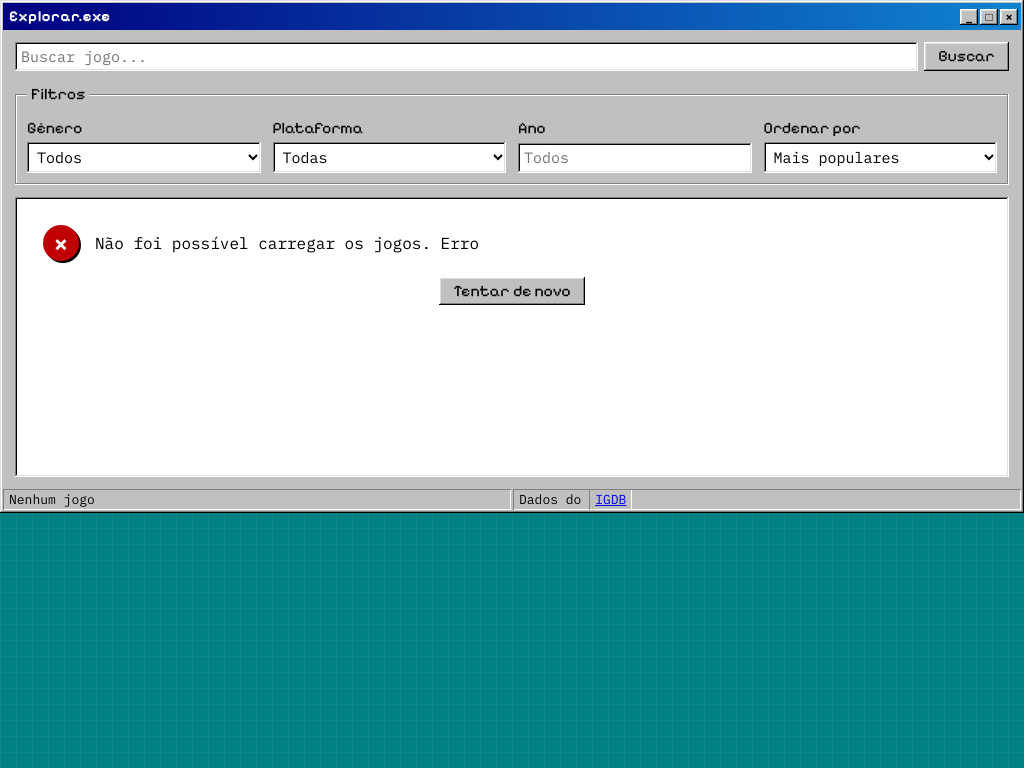
Test case: ExploreView › mostra o erro e tenta de novo
Expected: the message "× Não foi possível carregar os jogos. Erro Tentar de novo" is shown, [43, 225, 585, 305]
Click the button "Tentar de novo" at coordinates (512, 291), box [439, 277, 585, 305]
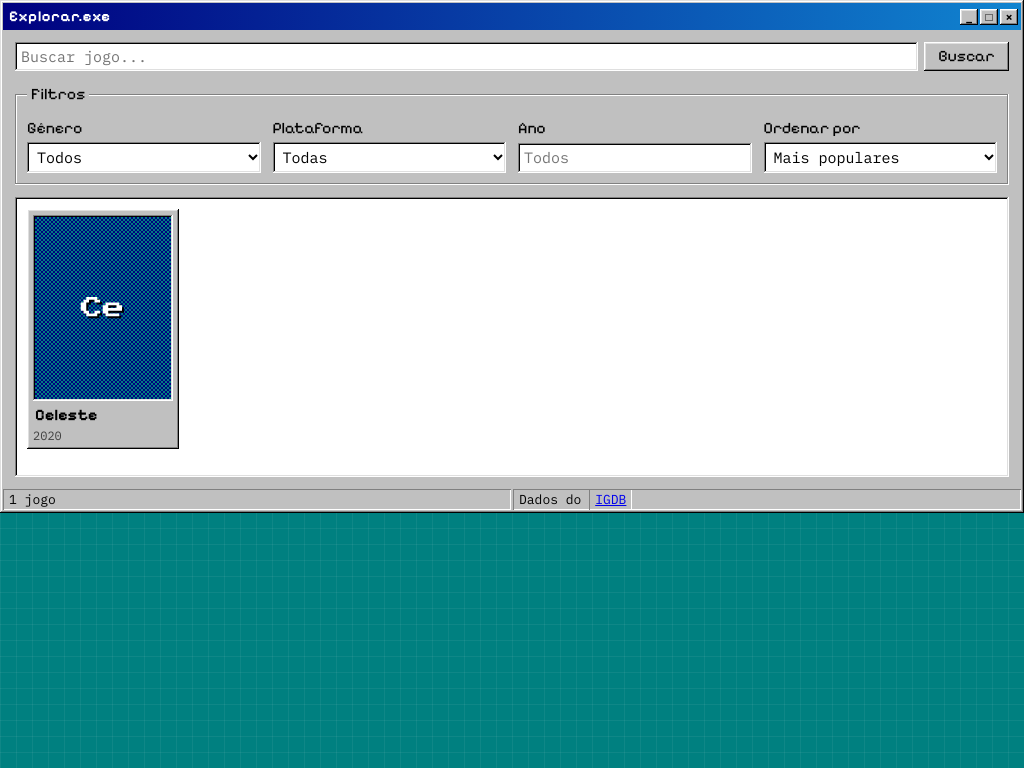
Result: the text "Celeste" is shown at [35, 405, 98, 424]
